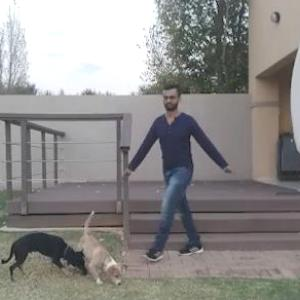land: (126, 87, 236, 270)
